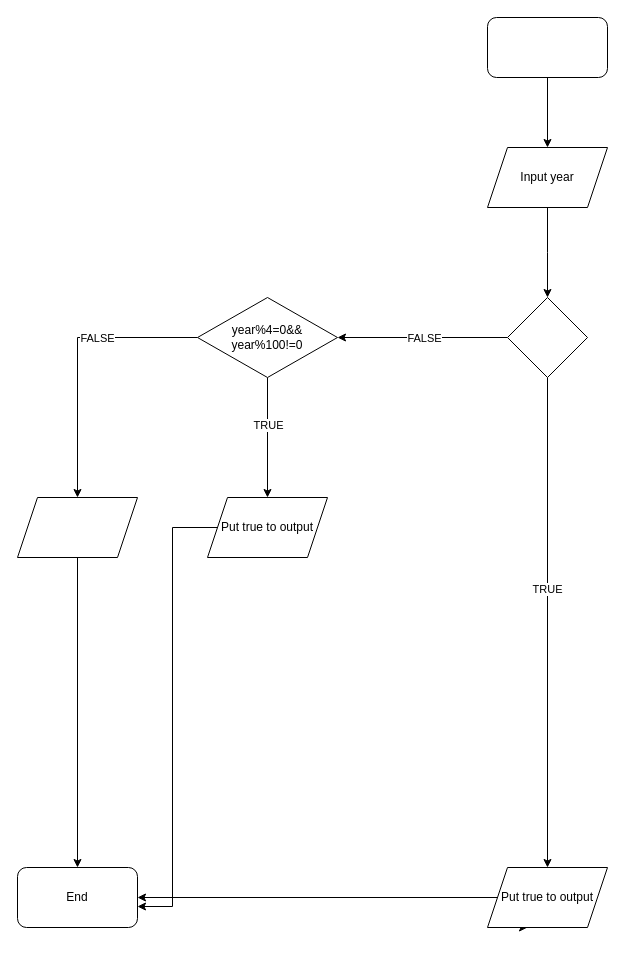
The diagram is 625 pixels wide and 953 high, and some of its shapes have lost their labels. The shapes that lost their labels are listed below. From the top down, each one's box as (x1, y1, x2, y2) in pixels, then its label:
(486, 16, 608, 78): Start
(506, 296, 588, 378): year%400=0
(16, 496, 138, 558): Put false to output
